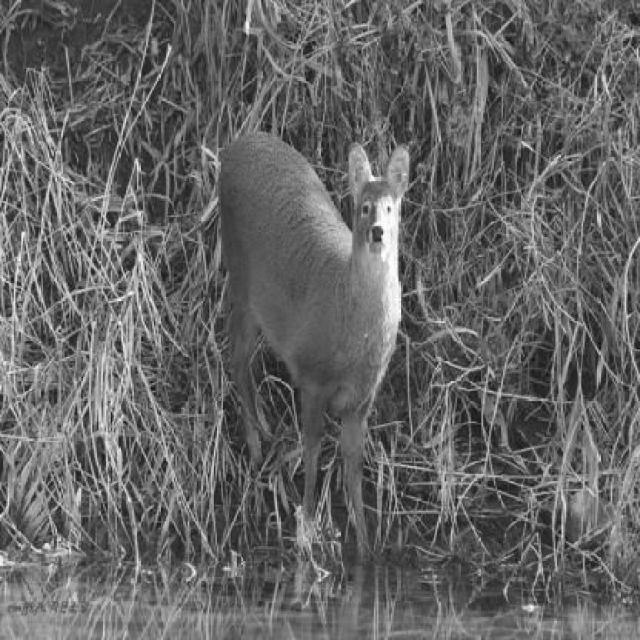Deer: (215, 131, 413, 543)
